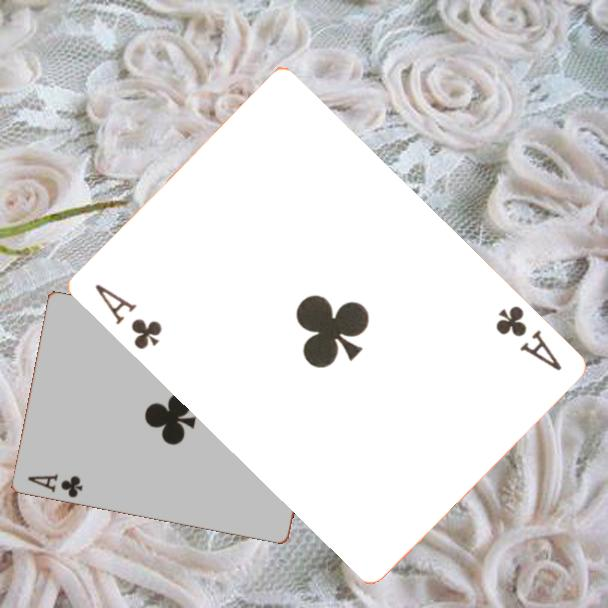c01: (90, 280, 165, 353), (491, 302, 564, 374), (24, 471, 85, 501)
